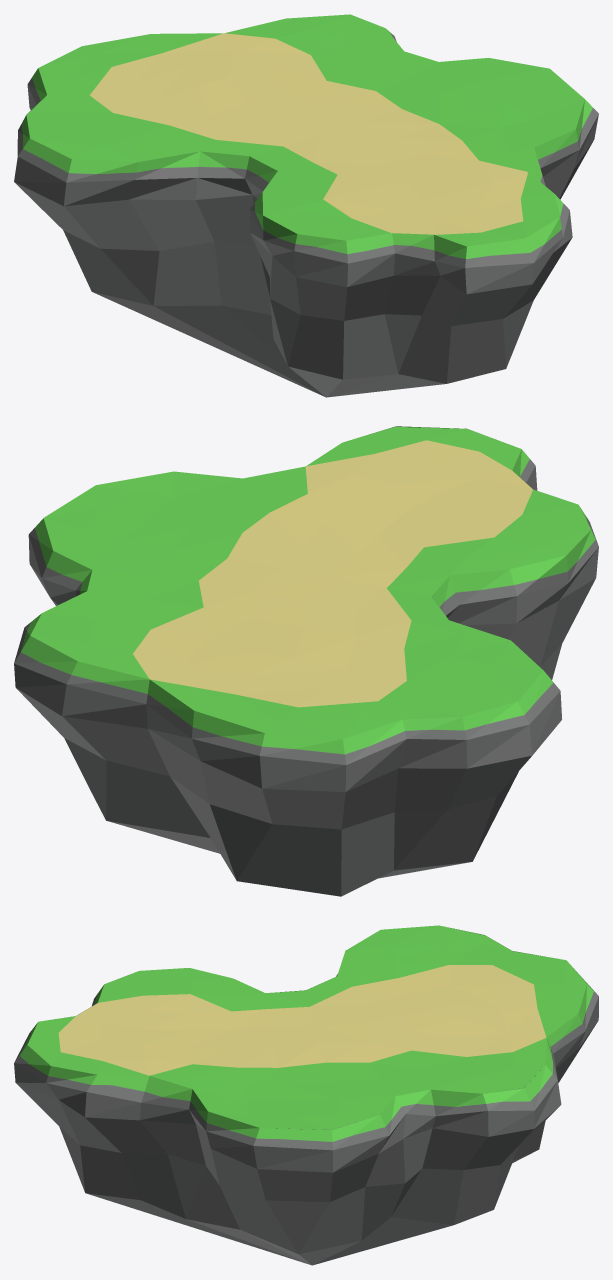
File: um_ground001.FBX
3 renders of one model, top to bottom at view 1: azimuth 30°, elevation 25°; view 2: azimuth 150°, elevation 25°; view 3: azimuth 270°, elevation 25°, orthographic. The views are drawn at different scales.
Visible parts, largest first — view 1: um_ground001; view 2: um_ground001; view 3: um_ground001.
Boxes of the visible parts, x1,y1,x2,y2 form: um_ground001: (14,14,598,397); um_ground001: (14,426,598,896); um_ground001: (14,925,598,1265).
Bounding box in the file's own units: 13.78 × 7.14 × 15.75.
